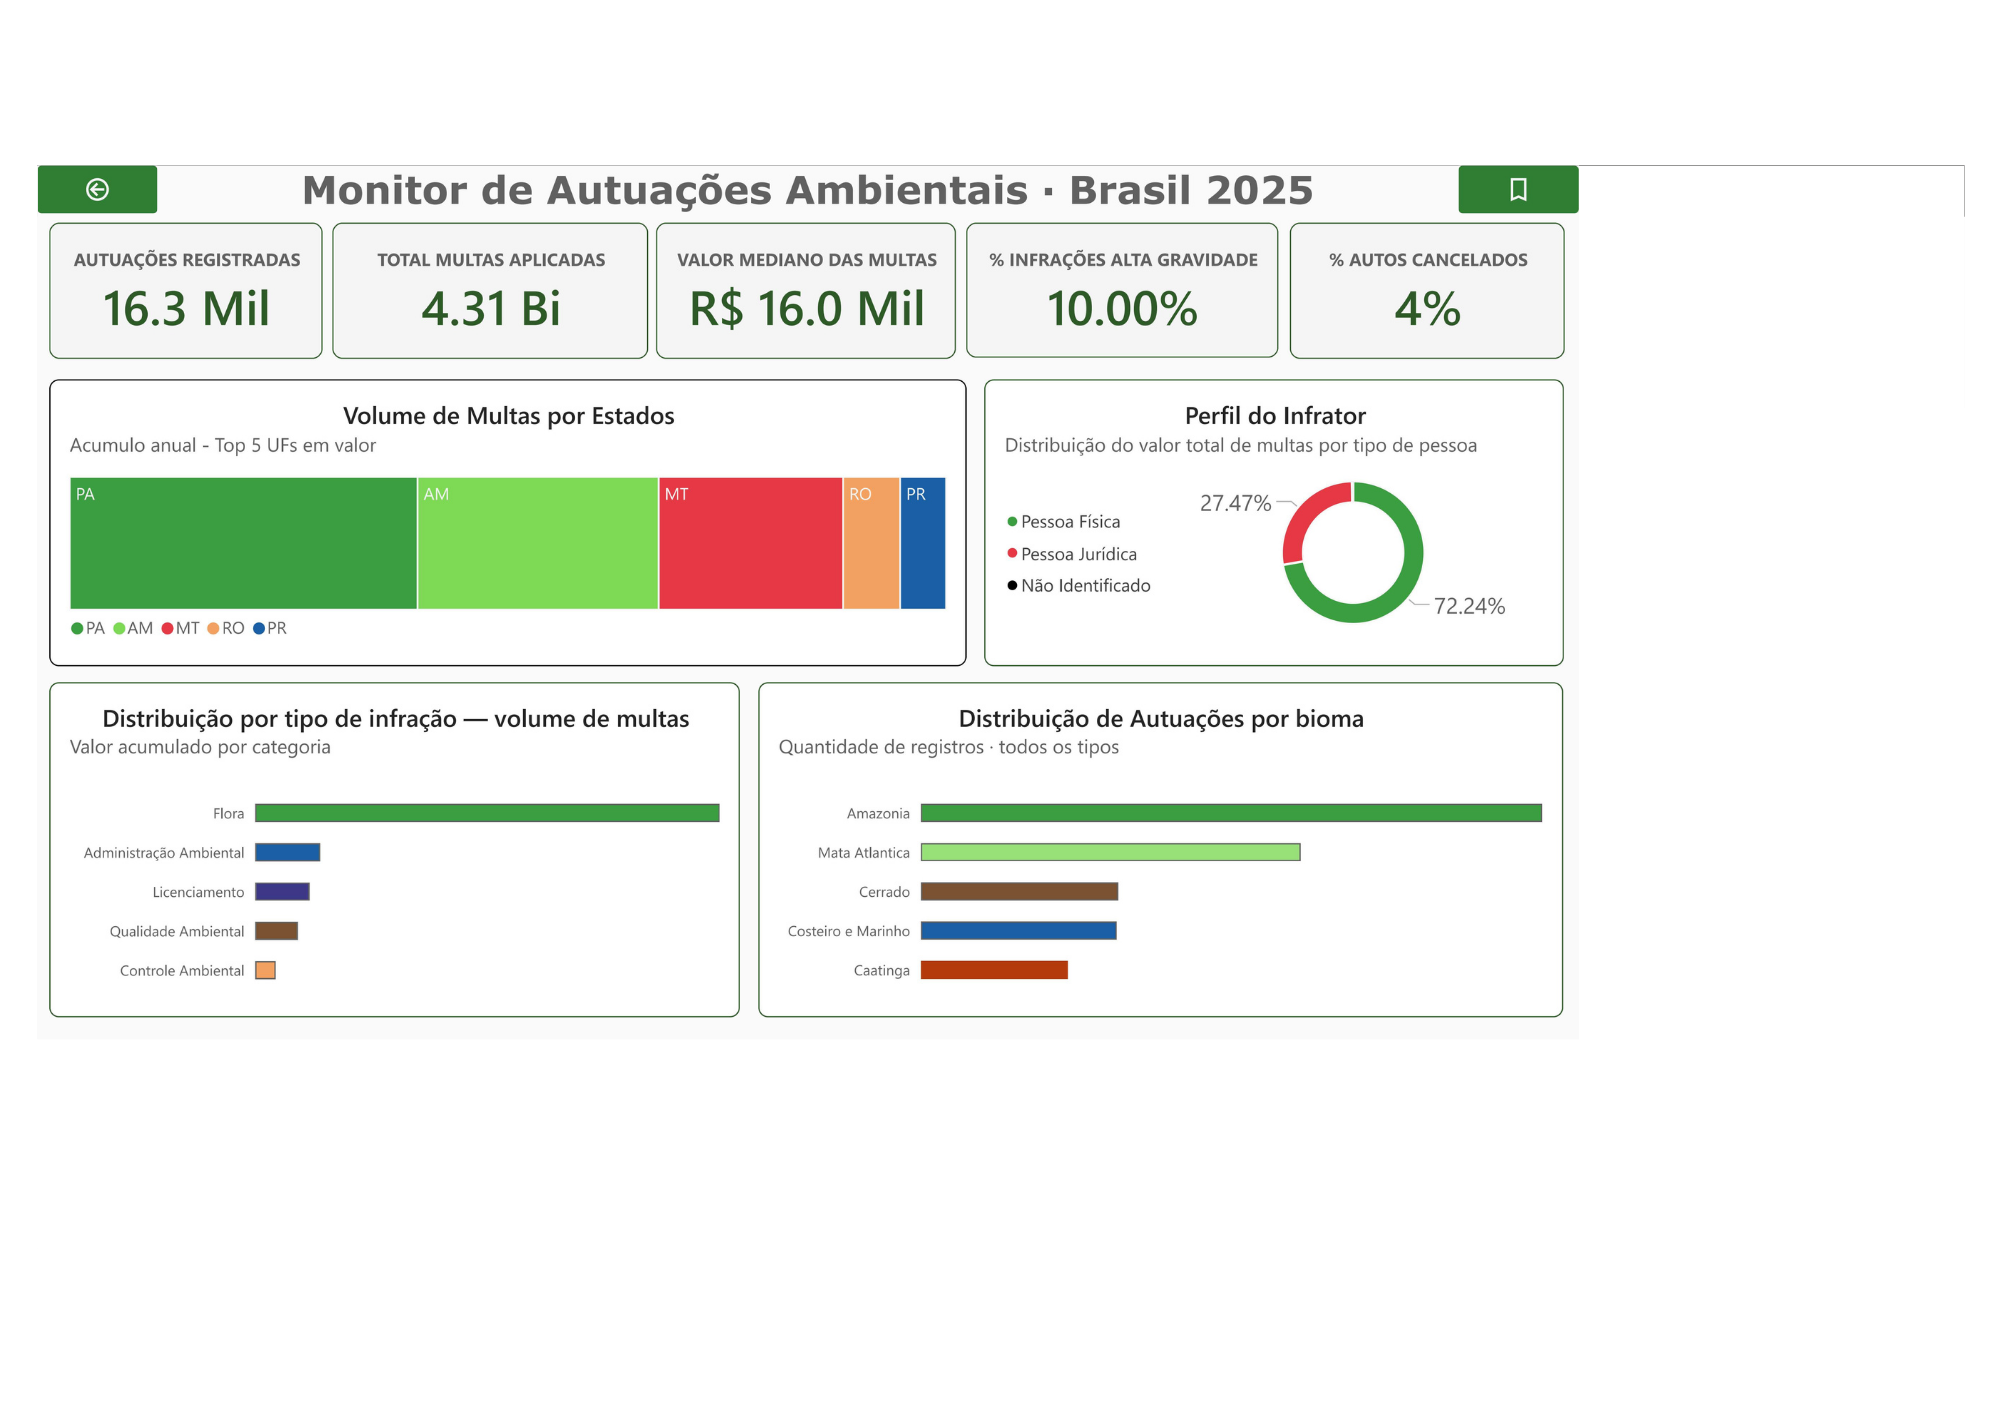

What the dashboard file says about the page in this screenshot:
{"tool":"powerbi","page":{"name":"Página 1","canvas":[1280,720],"ordinal":0},"visuals":[{"type":"cardVisual","fields":{"Data":["auto_infracao_ano_2025.Total_Multas"]},"box":[245,47.5,262.5,113.3],"z":0},{"type":"clusteredBarChart","title":"Distribuição por tipo de infração — volume de multas","fields":{"Category":["auto_infracao_ano_2025.TIPO_INFRACAO"],"Y":["Sum(auto_infracao_ano_2025.Total_Multas_Geral)"]},"box":[10,428.9,573.3,277.8],"z":1000},{"type":"cardVisual","fields":{"Data":["auto_infracao_ano_2025.Multa_Mediana"]},"box":[514.2,47.5,249.2,113.3],"z":2000},{"type":"clusteredBarChart","title":"Distribuição de Autuações por bioma","fields":{"Category":["auto_infracao_ano_2025.DS_BIOMAS_ATINGIDOS"],"Y":["CountNonNull(auto_infracao_ano_2025.TIPO_MULTA)"]},"box":[598.9,440,667.8,266.7],"z":3000},{"type":"cardVisual","fields":{"Data":["auto_infracao_ano_2025.Pct_Gravidade_Alta"]},"box":[771.2,47.6,259.4,112.9],"z":4000},{"type":"cardVisual","title":"Autuações registradas","fields":{"Data":["auto_infracao_ano_2025.Total_Autuacoes"]},"box":[10,47.8,227.8,113.3],"z":5000},{"type":"donutChart","title":"Perfil do Infrator","fields":{"Category":["auto_infracao_ano_2025.Perfil_Infrator"],"Y":["Sum(auto_infracao_ano_2025.Total_Multas_Geral)"]},"box":[786,168.7,481.3,260],"z":6000},{"type":"treemap","title":"Volume de Multas por Estados","fields":{"Group":["auto_infracao_ano_2025.UF"],"Values":["Sum(auto_infracao_ano_2025.Total_Multas_Geral)"]},"box":[10,168.3,761.7,246.7],"z":7000},{"type":"actionButton","box":[1180,0,100,40],"z":8000},{"type":"actionButton","box":[0,0,100,40],"z":9000},{"type":"textbox","box":[100,0,1080,40],"z":10000},{"type":"cardVisual","fields":{"Data":["auto_infracao_ano_2025.Pct_Cancelados"]},"box":[1039.4,47.5,228.1,113.1],"z":11000}]}

Visuals, with their boxes on the page's 1280x720 design canvas (x1, y1, x2, y2). These are canvas units, not pixel positions in the 2000x1414 screenshot, which may show the page scaled, cropped or inside an application window:
cardVisual - auto_infracao_ano_2025.Total_Multas: pyautogui.locateOnScreen(245, 48, 508, 161)
"Distribuição por tipo de infração — volume de multas" clusteredBarChart: pyautogui.locateOnScreen(10, 429, 583, 707)
cardVisual - auto_infracao_ano_2025.Multa_Mediana: pyautogui.locateOnScreen(514, 48, 763, 161)
"Distribuição de Autuações por bioma" clusteredBarChart: pyautogui.locateOnScreen(599, 440, 1267, 707)
cardVisual - auto_infracao_ano_2025.Pct_Gravidade_Alta: pyautogui.locateOnScreen(771, 48, 1031, 160)
"Autuações registradas" cardVisual: pyautogui.locateOnScreen(10, 48, 238, 161)
"Perfil do Infrator" donutChart: pyautogui.locateOnScreen(786, 169, 1267, 429)
"Volume de Multas por Estados" treemap: pyautogui.locateOnScreen(10, 168, 772, 415)
actionButton: pyautogui.locateOnScreen(1180, 0, 1280, 40)
actionButton: pyautogui.locateOnScreen(0, 0, 100, 40)
textbox: pyautogui.locateOnScreen(100, 0, 1180, 40)
cardVisual - auto_infracao_ano_2025.Pct_Cancelados: pyautogui.locateOnScreen(1039, 48, 1268, 161)
